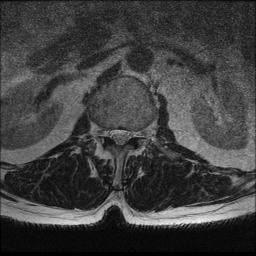CCS_normal: (116, 120, 124, 154)
LFS_normal: (132, 121, 141, 144)
LLS_normal: (124, 121, 132, 149)
RFS_normal: (100, 118, 108, 144)
RLS_normal: (108, 121, 116, 145)
